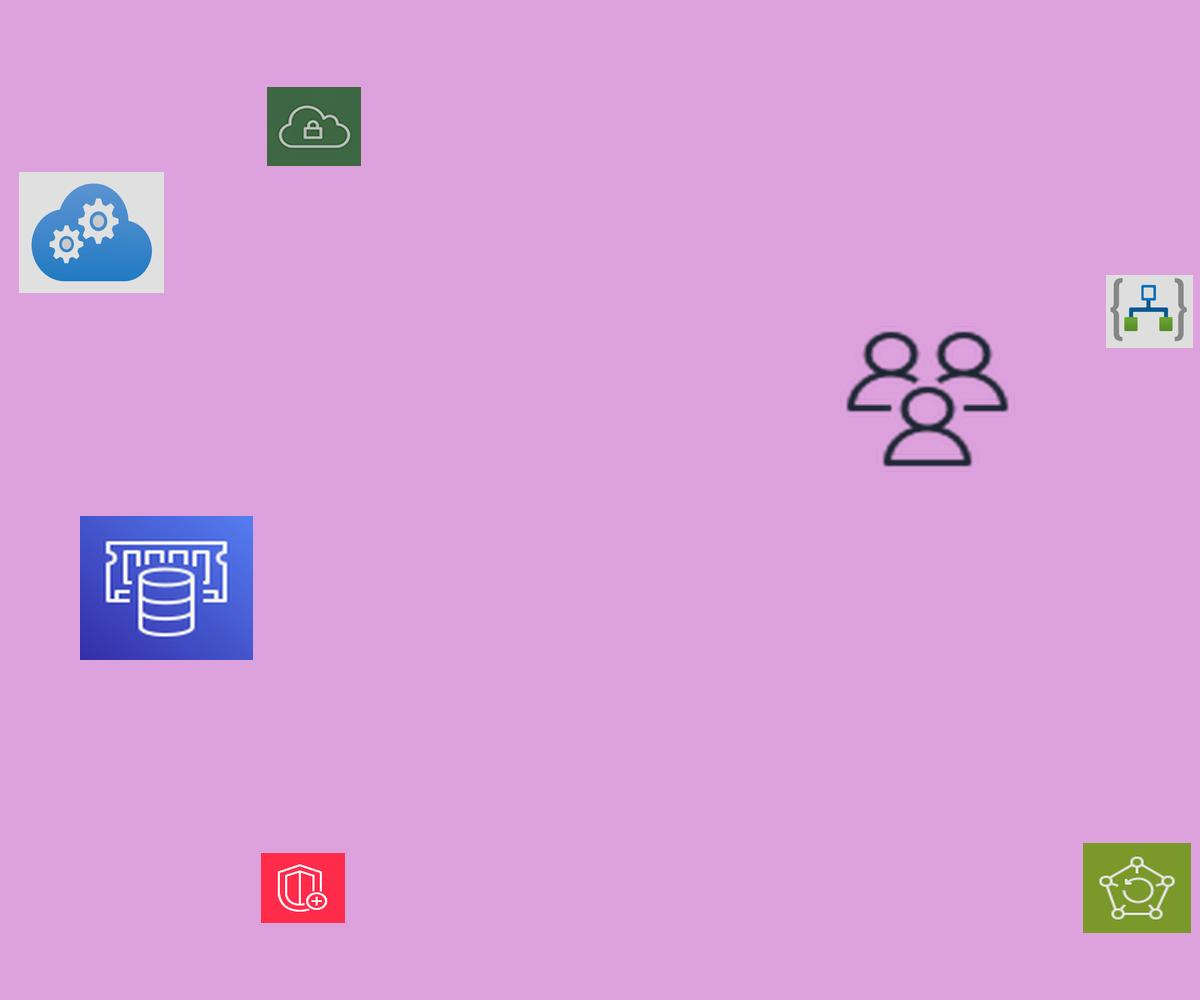AWS-Backup: (1083, 843, 1191, 933)
AWS-ElastiCache: (80, 516, 253, 660)
AWS-Private_vpc: (267, 87, 361, 166)
AWS-Res_Users: (840, 326, 1015, 472)
AWS-Shield: (261, 853, 345, 923)
Azure_cloud_services: (19, 172, 164, 293)
Azure_integration-204-Logic-Apps: (1106, 275, 1193, 348)
